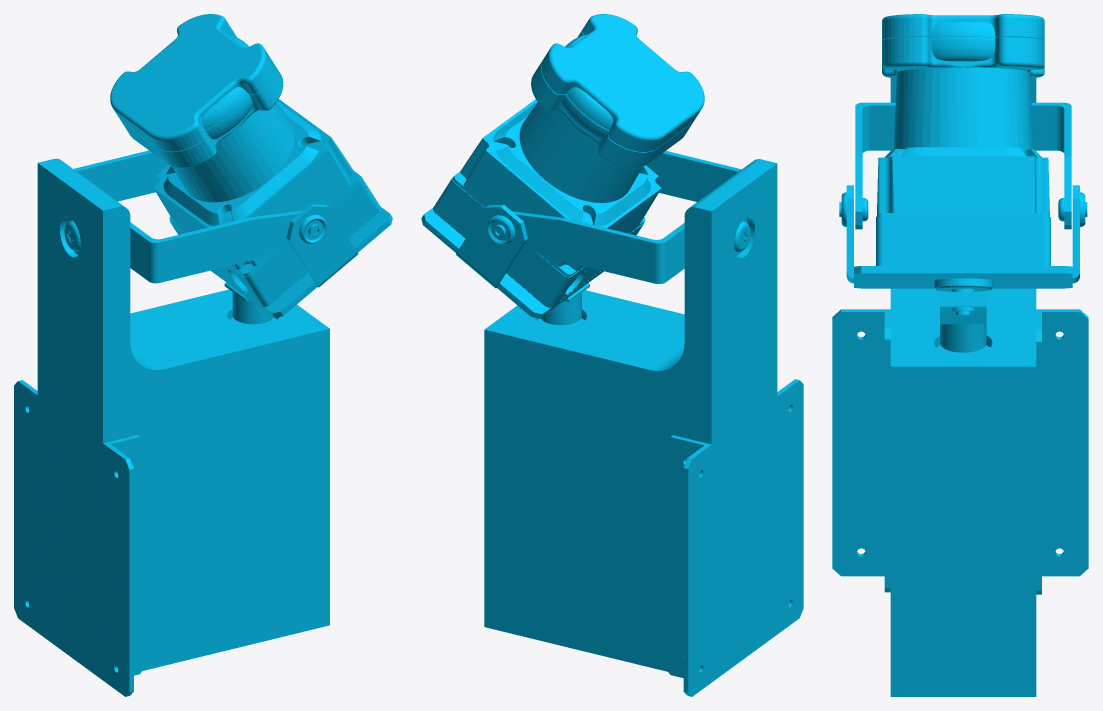
The model's file is gim30.dae.
The picture shows the model from 3 angles, left to right: view 1: azimuth 30°, elevation 25°; view 2: azimuth 150°, elevation 25°; view 3: azimuth 270°, elevation 25°; orthographic projection. The views are drawn at different scales.
Visible parts, largest first — view 1: Gim30; view 2: Gim30; view 3: Gim30.
Boxes of the visible parts, <box> form: Gim30: <box>14,14,392,696</box>; Gim30: <box>421,14,803,696</box>; Gim30: <box>832,14,1088,696</box>.
Bounding box in the file's own units: 122 × 88 × 247.
